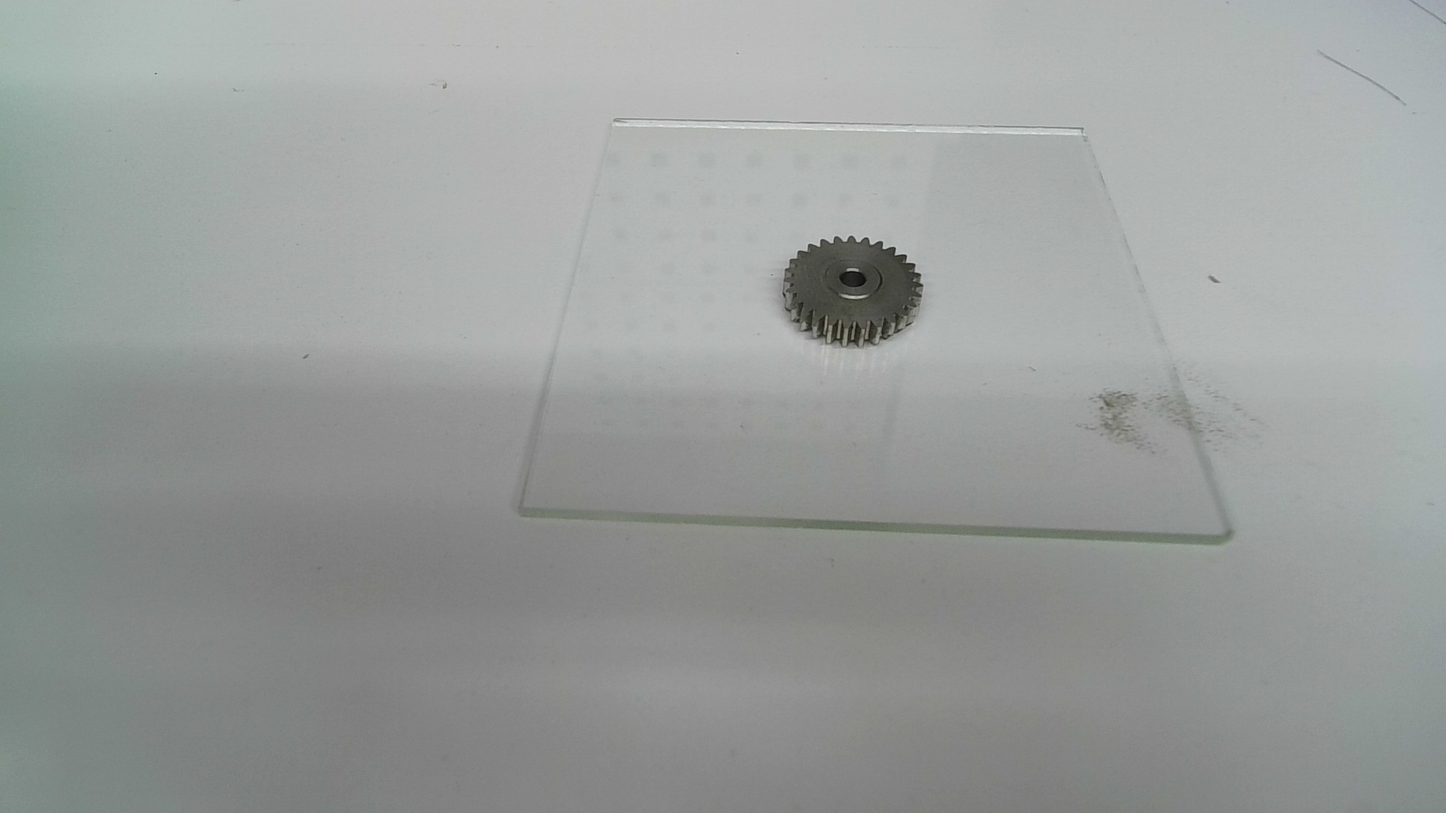gear: (781, 233, 925, 351)
